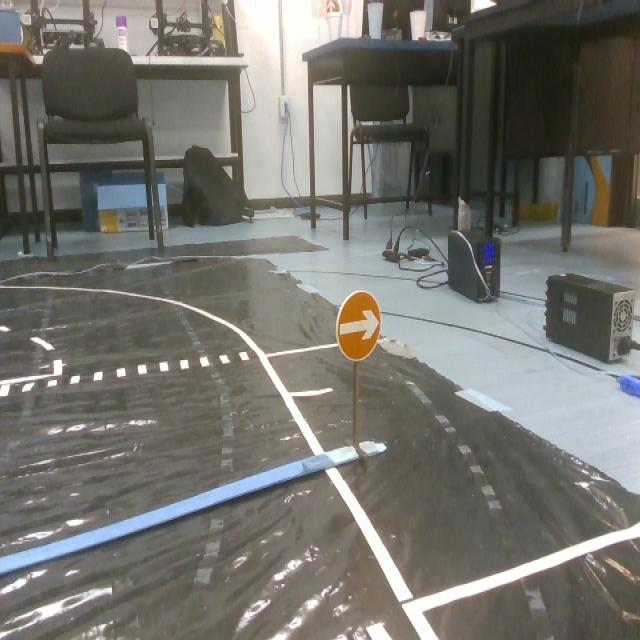left_turn: (338, 292, 393, 368)
